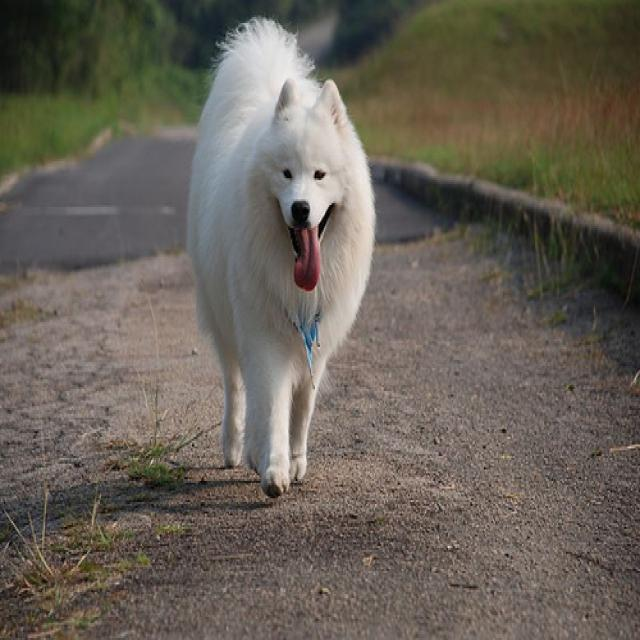dog-samoyed: (184, 29, 376, 492)
